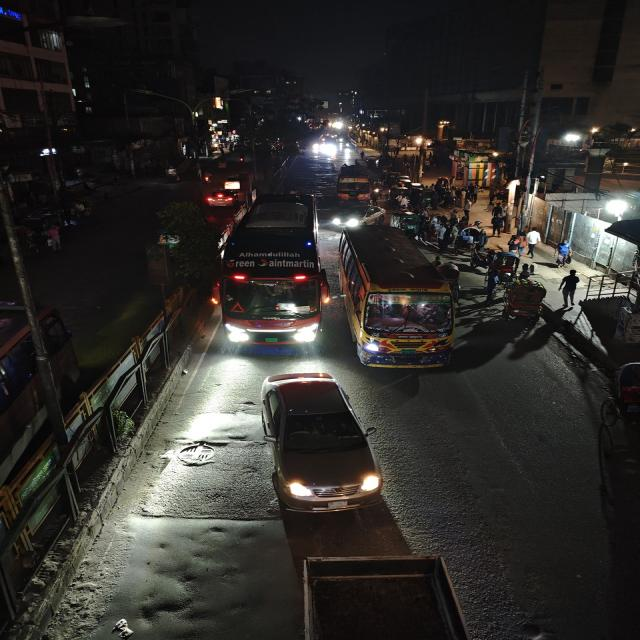bus: (334, 224, 458, 374), (215, 192, 328, 350), (334, 164, 372, 203)
car: (255, 369, 382, 517), (329, 202, 383, 231), (203, 183, 243, 207)
motorcycle: (198, 167, 214, 186)
pedestrian: (557, 268, 580, 306), (459, 222, 485, 252), (524, 228, 544, 258), (484, 267, 502, 297), (489, 208, 507, 237), (555, 239, 573, 267), (508, 232, 524, 256), (518, 262, 535, 284)
rickshaw: (604, 359, 640, 430), (500, 280, 550, 325)
